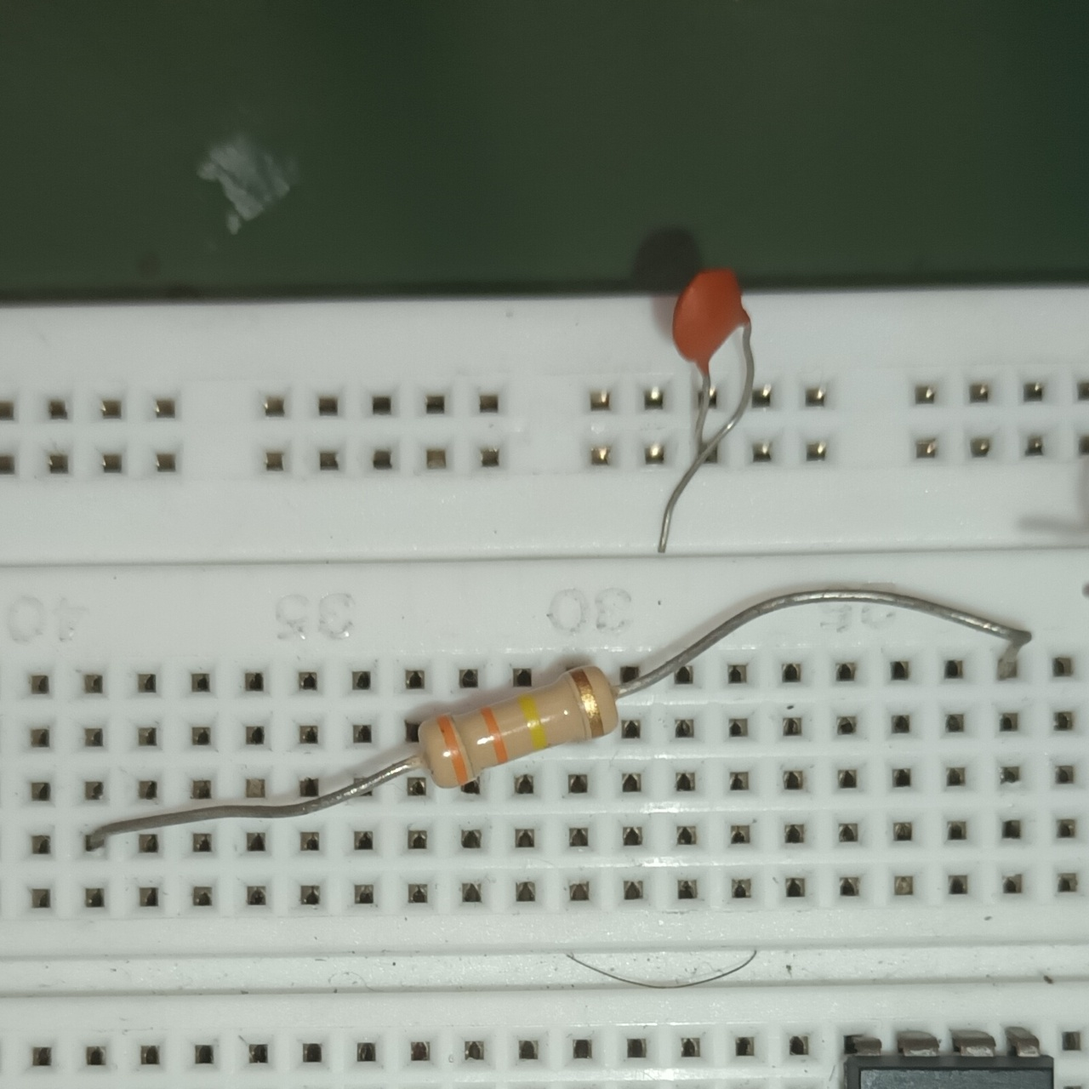capacitor: (668, 263, 755, 375)
resistor: (419, 662, 626, 796)
